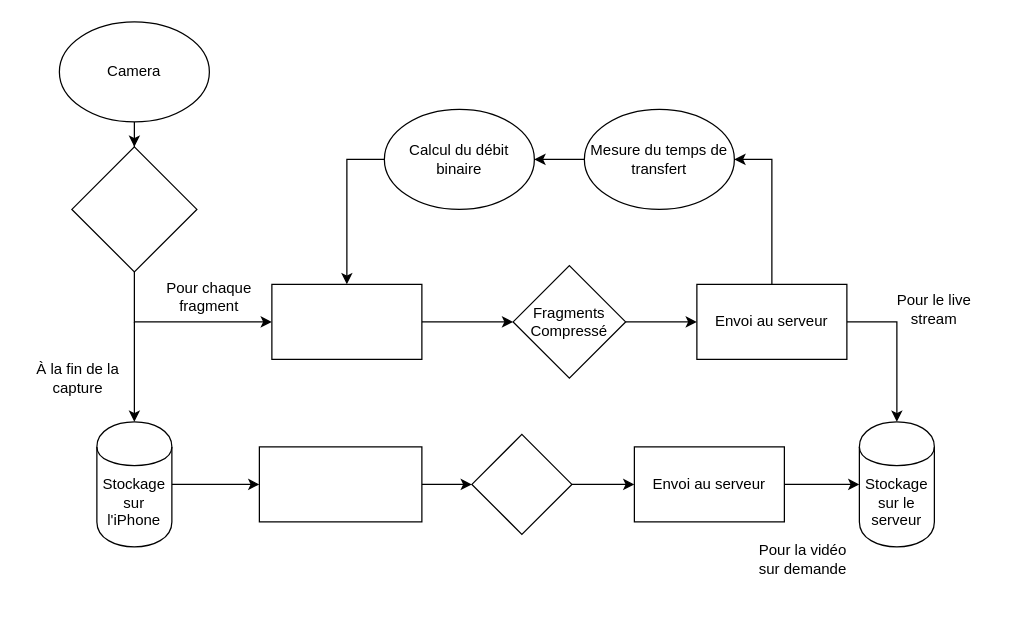
Some shapes in this 1011 by 619 pixel diagram are drawn without their labels. The shapes that lost their labels are listed below. From the top down, each one's centre as x and y in pixels, then its label:
At [134,209]: "Fragments Haute Définition".
At [346,321]: "Compression selon le débit binaire".
At [340,484]: "Fusion des fragments".
At [521,483]: "Vidéo complète".
